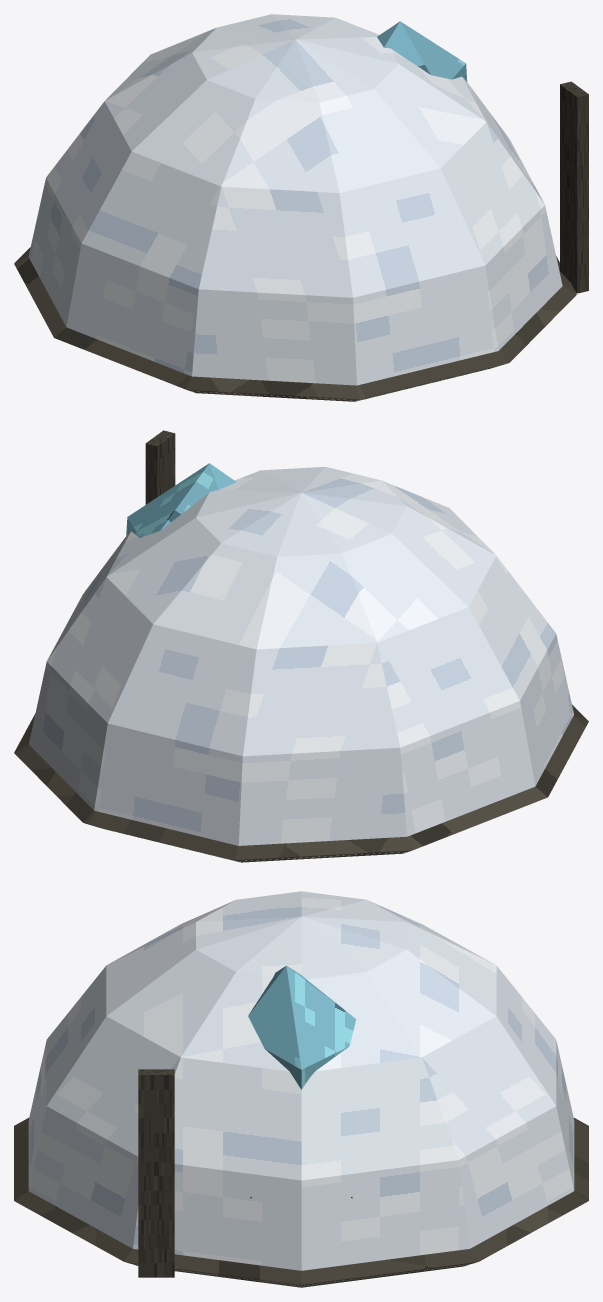
File: tumba_helada.glb
The picture shows the model from 3 angles, top to bottom: view 1: azimuth 30°, elevation 25°; view 2: azimuth 150°, elevation 25°; view 3: azimuth 270°, elevation 25°; orthographic projection. The views are drawn at different scales.
Visible parts, largest first — view 1: tumulo, anillo, piedra_ciervo, hielo; view 2: tumulo, anillo, hielo, piedra_ciervo; view 3: tumulo, anillo, piedra_ciervo, hielo.
Part boxes in pixels (<box>): tumulo: <box>28,14,562,400</box>; anillo: <box>14,247,576,401</box>; piedra_ciervo: <box>560,81,588,293</box>; hielo: <box>377,21,467,81</box>; tumulo: <box>29,466,573,861</box>; anillo: <box>14,704,588,862</box>; hielo: <box>126,463,236,537</box>; piedra_ciervo: <box>145,430,175,504</box>; tumulo: <box>28,891,574,1286</box>; anillo: <box>14,1118,588,1287</box>; piedra_ciervo: <box>138,1069,174,1277</box>; hielo: <box>248,965,355,1089</box>.
Size of the model in its own units: 8 by 4 by 8.
1 material, 1 textured.
